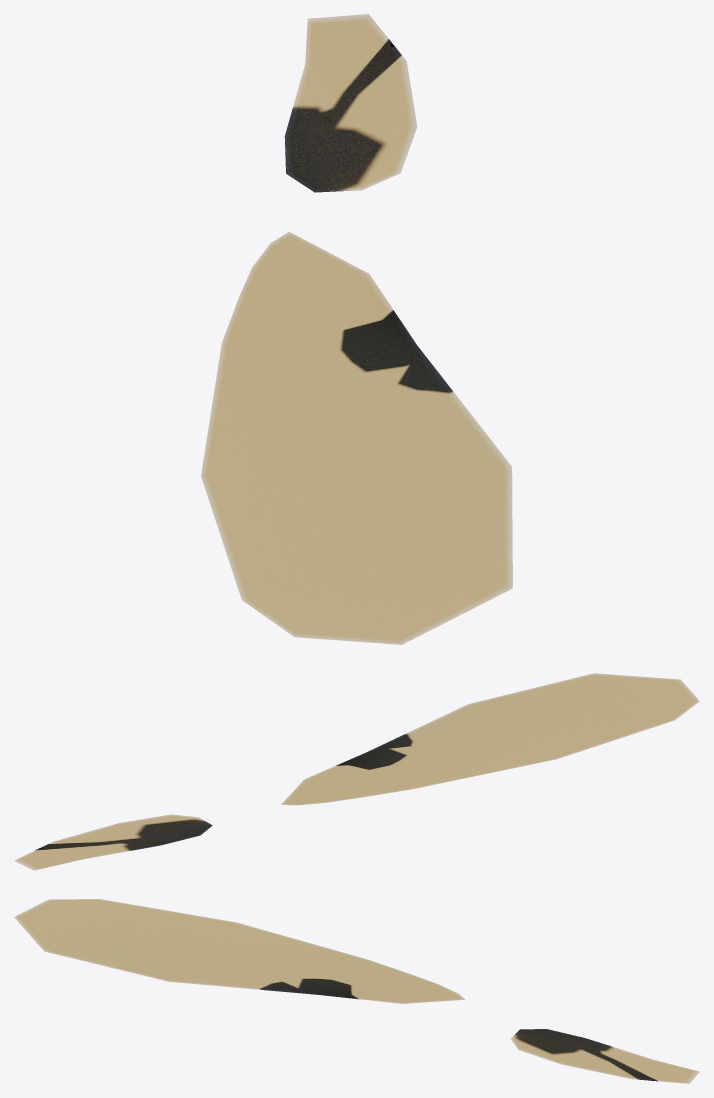
File: Water.fbx
The picture shows the model from 3 angles, top to bottom: view 1: azimuth 30°, elevation 25°; view 2: azimuth 150°, elevation 25°; view 3: azimuth 270°, elevation 25°; orthographic projection. The views are drawn at different scales.
Visible parts, largest first — view 1: Water; view 2: Water; view 3: Water.
Boxes of the visible parts, x1,y1,x2,y2 form: Water: [201, 14, 512, 644]; Water: [14, 673, 699, 870]; Water: [14, 899, 699, 1083].
Bounding box in the file's own units: 36.47 × 0.9856 × 60.47.
1 material, 1 textured.
